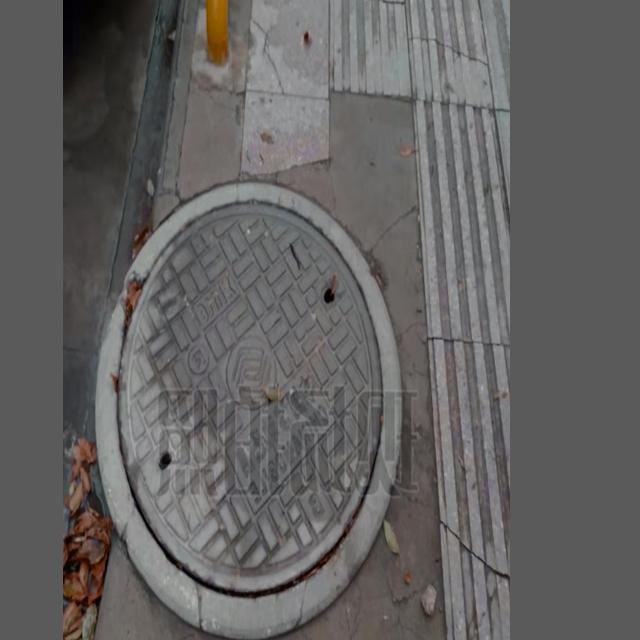good: (95, 179, 401, 640)
